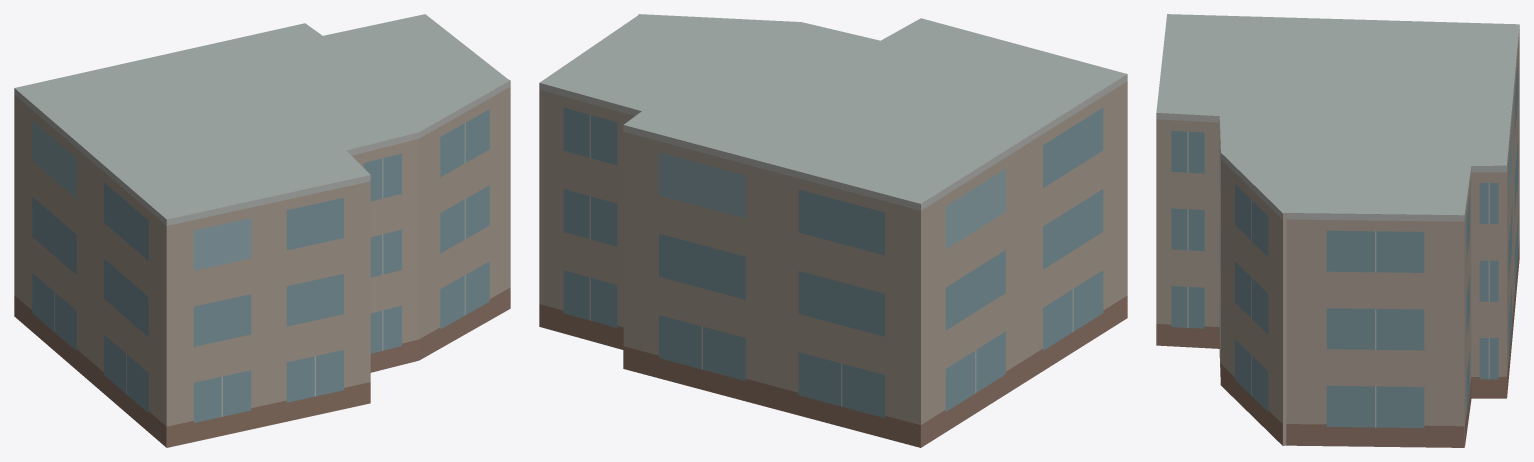
Rendered from survey-upis-32683890.glb.
3 views of the same model, side by side, from view 1: azimuth 30°, elevation 25°; view 2: azimuth 150°, elevation 25°; view 3: azimuth 270°, elevation 25° (orthographic). The views are drawn at different scales.
Visible parts, largest first — view 1: survey-upis-32683890.tmp; view 2: survey-upis-32683890.tmp; view 3: survey-upis-32683890.tmp.
Boxes of the visible parts, left/top/right/bottom form: survey-upis-32683890.tmp: left=14, top=14, right=510, bottom=447; survey-upis-32683890.tmp: left=539, top=14, right=1127, bottom=447; survey-upis-32683890.tmp: left=1156, top=14, right=1519, bottom=447.
Size of the model in its own units: 16.14 by 8.7 by 12.32.
